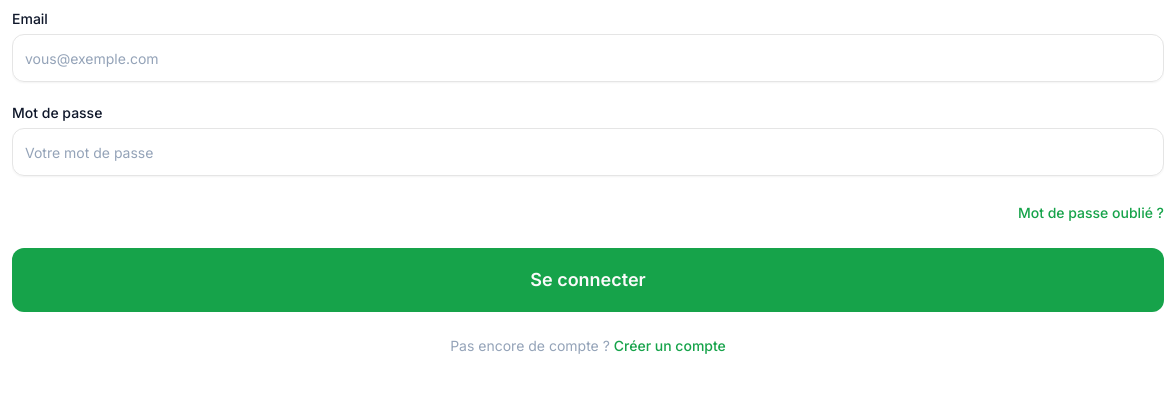
LoginForm › should show validation error for invalid email on blur
The width and height of the screenshot is (1176, 399).
Type "invalid-email" into the field labelled "Email" at point(588, 58), box [12,34,1164,82]
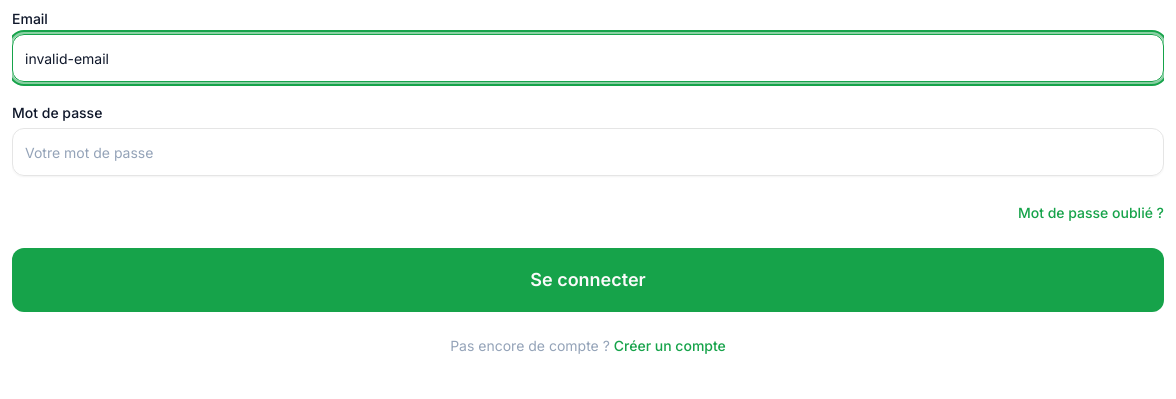
Press Tab
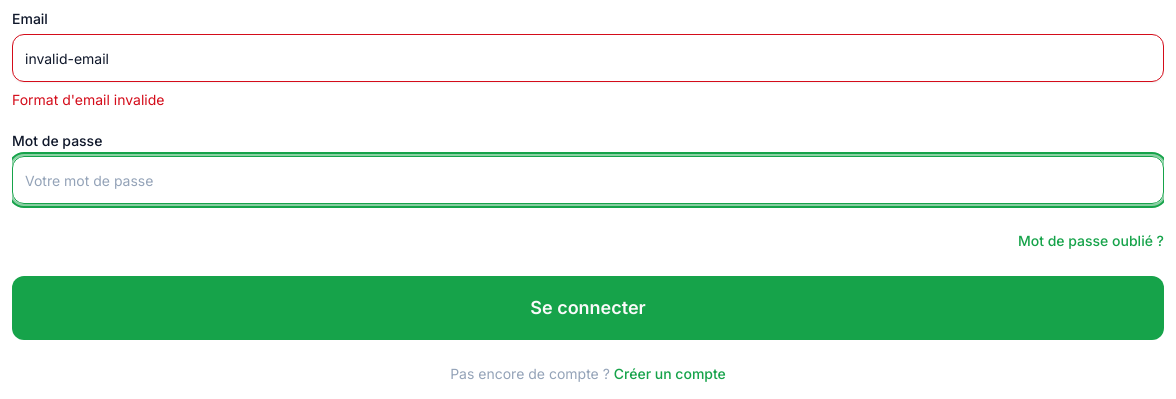
Expected: the text "Format d'email invalide" is shown, [12,91,164,108]
